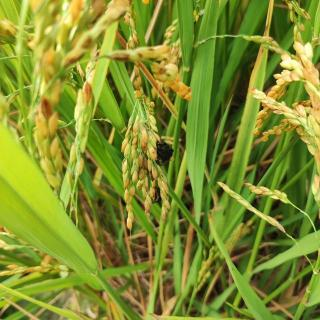Gosong-Palsu: (153, 140, 175, 167), (149, 186, 162, 203)
